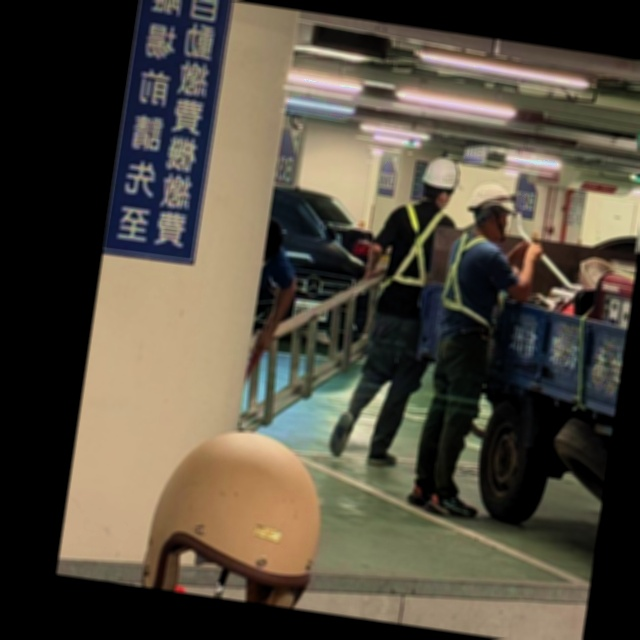Con_Casco: (464, 177, 524, 238), (418, 156, 470, 205)
Con_Chaleco: (372, 199, 457, 318), (437, 229, 509, 347)
